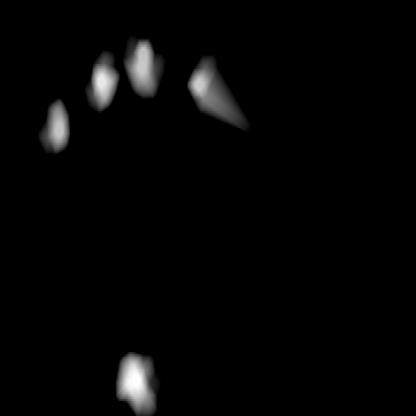fingers: (37, 41, 215, 152), (115, 349, 157, 409)
